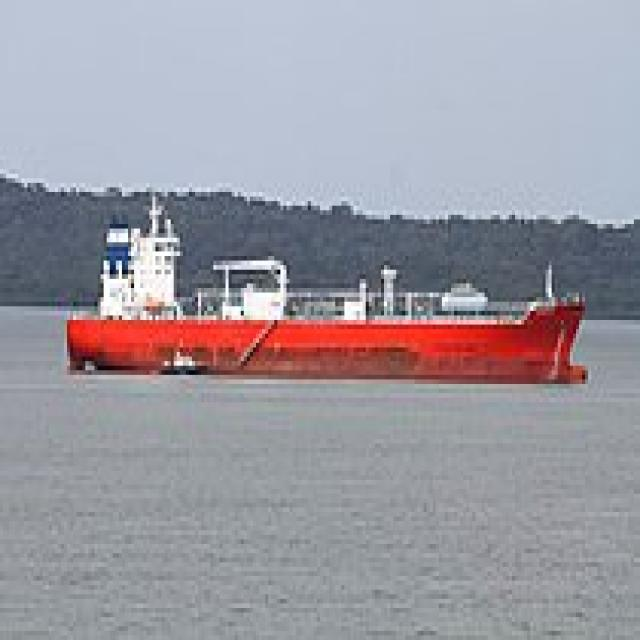Tanker: (64, 188, 585, 380)
